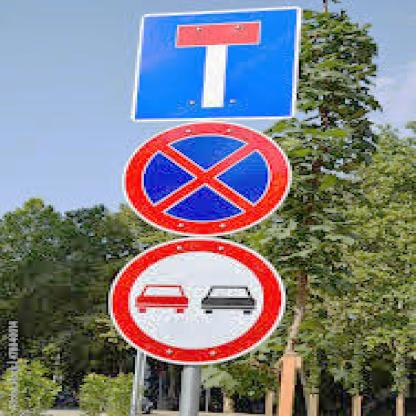No stopping: (116, 122, 292, 238)
